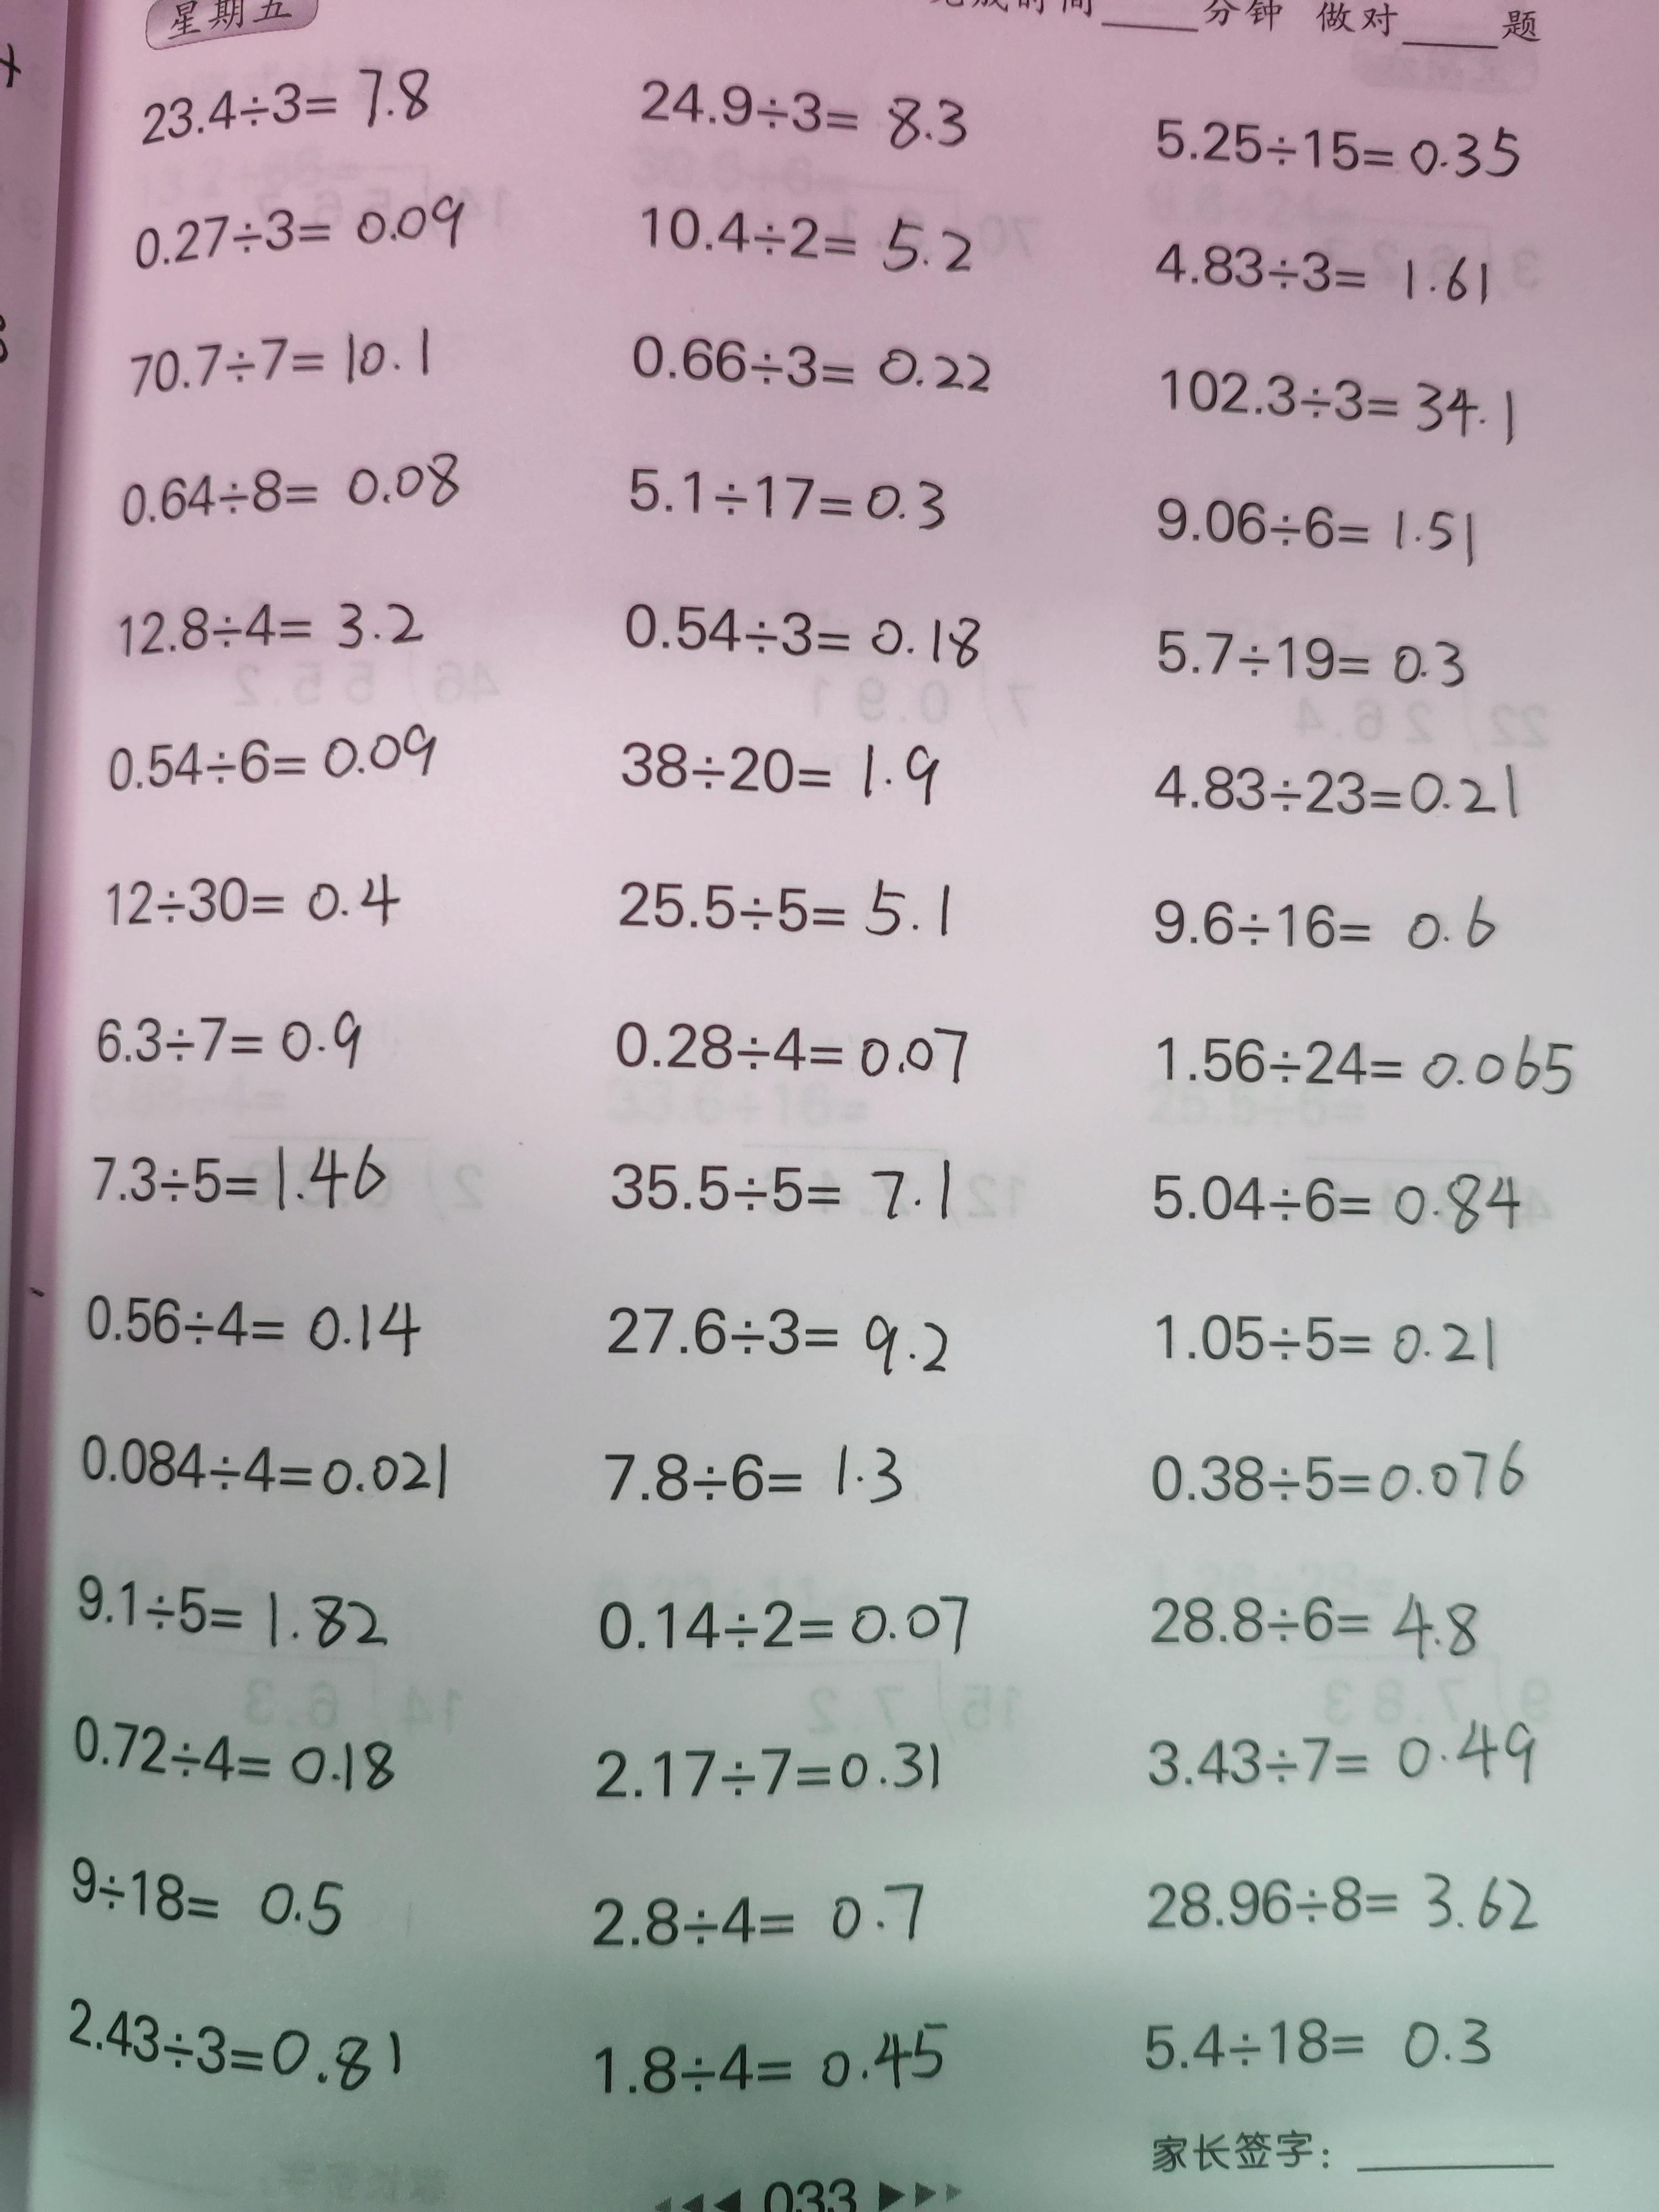equation: (1143, 1000, 1584, 1125), (603, 38, 1002, 171), (1129, 1848, 1547, 1958), (56, 1414, 471, 1524), (582, 1568, 990, 1679), (592, 998, 979, 1113), (1145, 340, 1523, 456), (606, 568, 986, 683), (54, 1984, 415, 2104), (73, 1263, 422, 1383), (566, 1864, 948, 1973), (56, 1695, 408, 1813), (582, 1287, 967, 1395), (619, 185, 1002, 293), (610, 312, 999, 418), (1138, 91, 1530, 195), (592, 1137, 967, 1245), (1134, 1714, 1554, 1810), (1131, 1573, 1497, 1679), (112, 437, 472, 543), (1143, 219, 1511, 322), (1124, 1996, 1504, 2094), (52, 1838, 369, 1954), (1141, 742, 1532, 836), (598, 853, 955, 956), (1131, 1433, 1542, 1522), (59, 1555, 396, 1663), (603, 719, 953, 822), (1141, 1162, 1539, 1252), (1138, 479, 1486, 582), (125, 49, 467, 153), (612, 444, 958, 545), (1136, 873, 1518, 963), (575, 1421, 917, 1522), (92, 573, 434, 672), (563, 2017, 967, 2101), (582, 1731, 960, 1820), (1141, 1303, 1514, 1390), (117, 315, 444, 413), (71, 1130, 401, 1226), (1145, 608, 1481, 700), (73, 988, 382, 1087), (91, 716, 448, 801), (94, 853, 408, 949), (113, 188, 471, 272)
